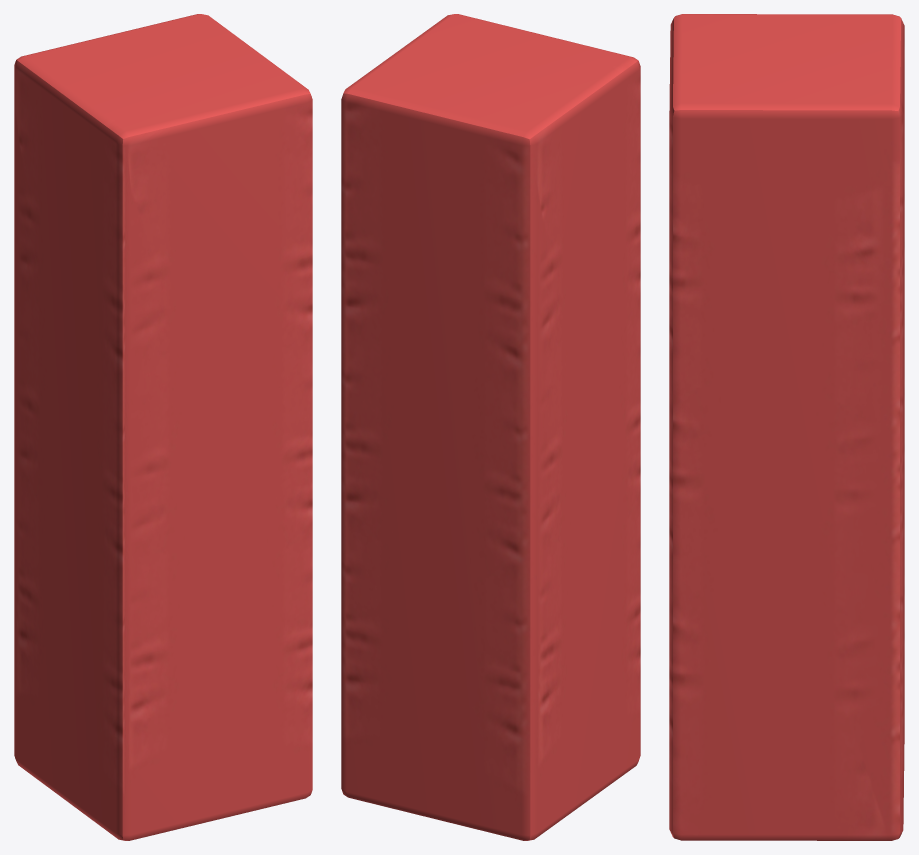
The model's file is OBS0110041.fbx.
3 renders of one model, left to right at view 1: azimuth 30°, elevation 25°; view 2: azimuth 150°, elevation 25°; view 3: azimuth 270°, elevation 25°, orthographic. The views are drawn at different scales.
Visible parts, largest first — view 1: smOBS0110041; view 2: smOBS0110041; view 3: smOBS0110041.
Boxes of the visible parts, <box> form: smOBS0110041: <box>14,14,312,840</box>; smOBS0110041: <box>341,14,640,840</box>; smOBS0110041: <box>669,14,904,840</box>.
Bounding box in the file's own units: 33.4 × 115 × 33.4.
1 material, 1 textured.
